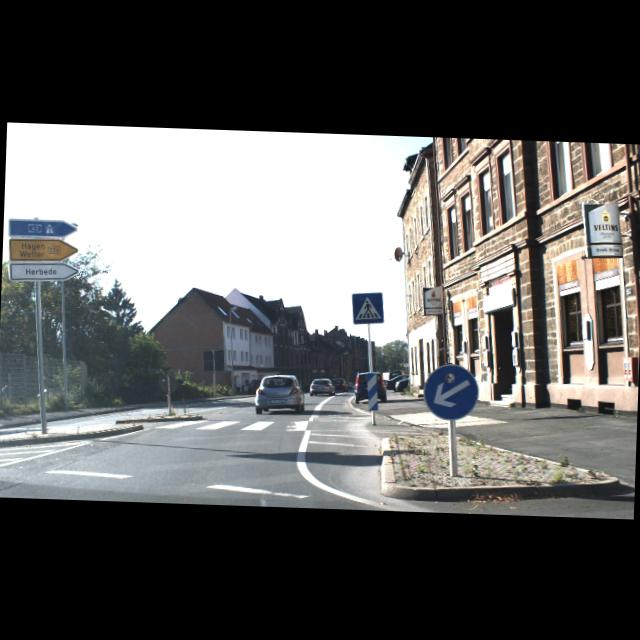mandatory: (422, 362, 479, 419)
